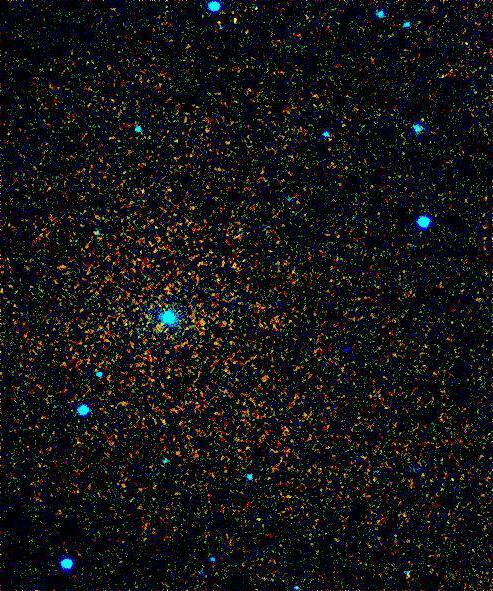star: (147, 314, 177, 344)
